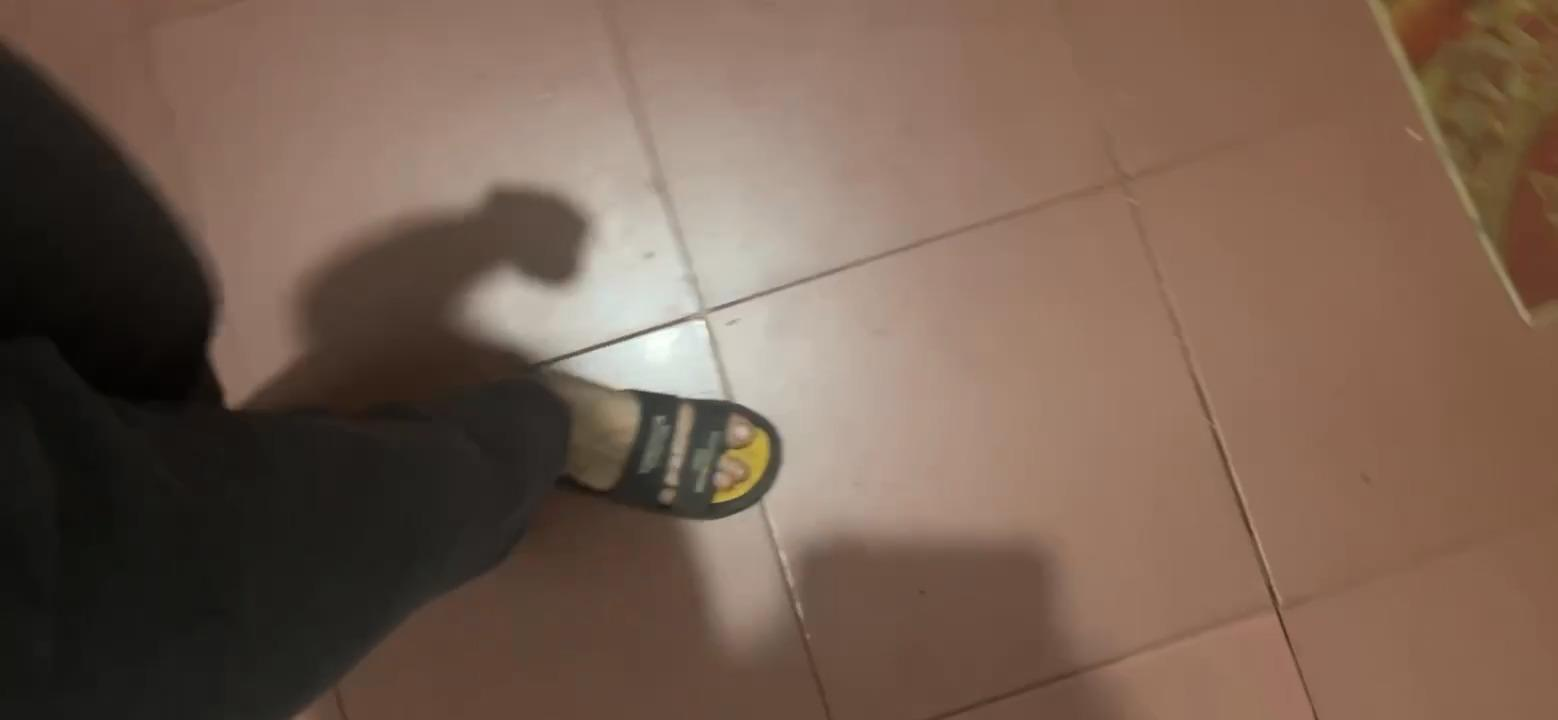no-boot: (503, 353, 766, 525)
